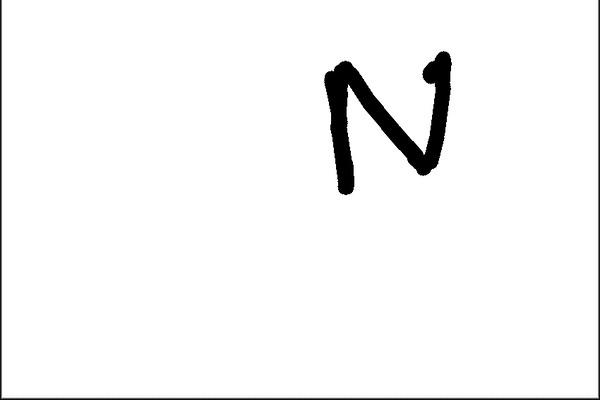N: (314, 44, 458, 200)
